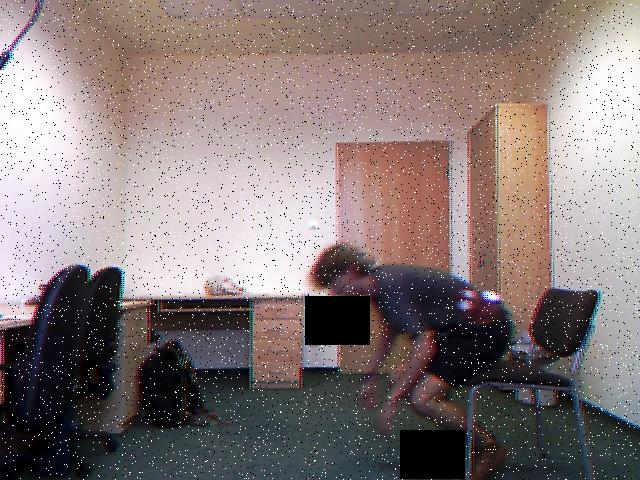near-fall: (303, 232, 526, 480)
